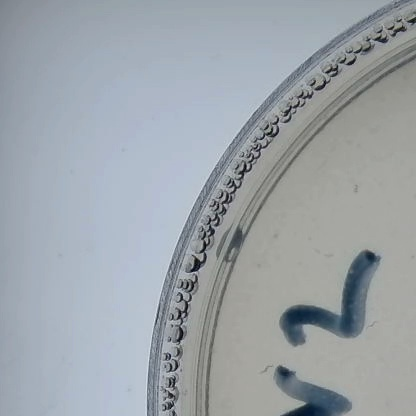worm: (361, 314, 390, 332), (309, 242, 339, 258), (254, 362, 275, 378)
